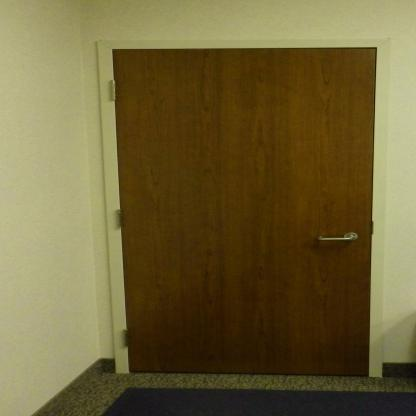door: (108, 43, 367, 363)
hinged: (108, 78, 122, 102), (115, 207, 127, 230), (124, 328, 134, 348)
lever: (312, 232, 360, 244)
